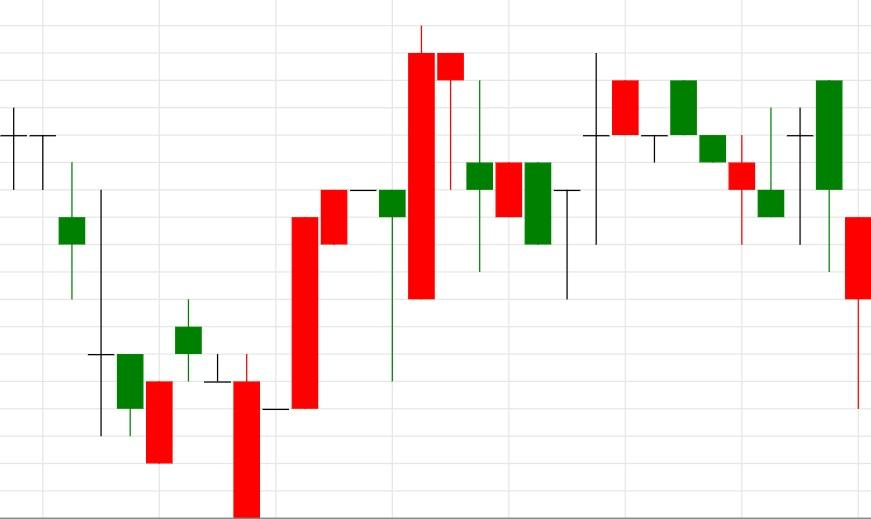hanging_man_fall: (233, 26, 465, 518)
inverse_hammer_rise: (669, 80, 785, 245)
